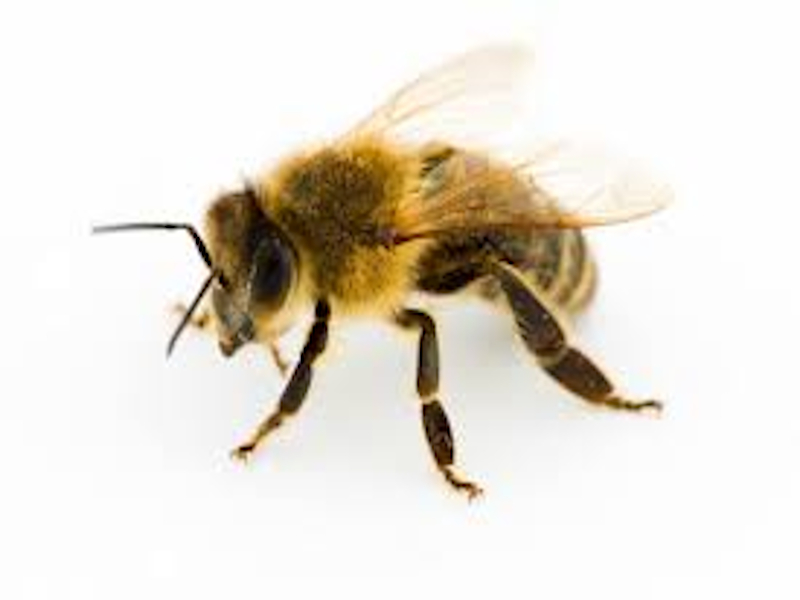abeja: (108, 34, 682, 485)
